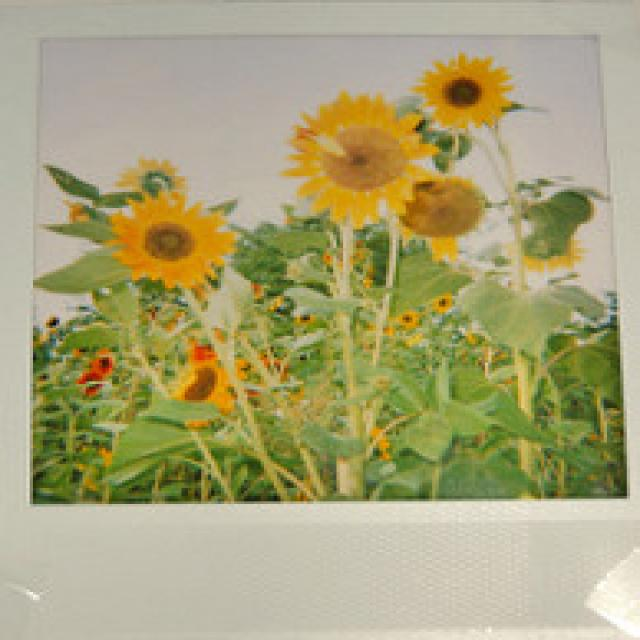sunflower: (272, 89, 439, 228), (106, 188, 244, 292), (412, 48, 522, 131)
